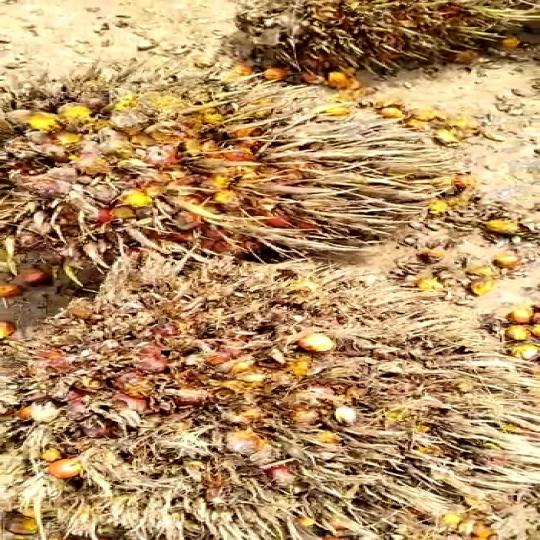terlalu masak: (0, 269, 514, 510), (0, 77, 430, 278)
